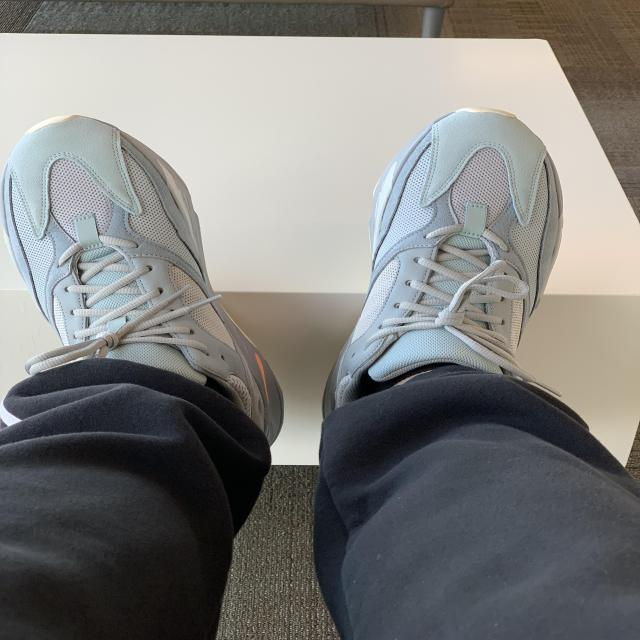shoes: (1, 111, 286, 452), (316, 105, 564, 420)
